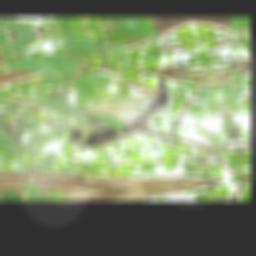Cuckoo: (44, 77, 191, 151)
